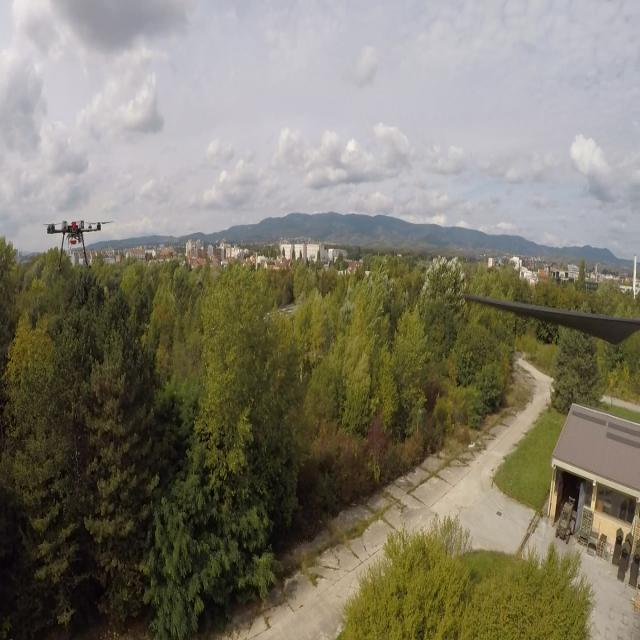UAV: (44, 210, 116, 278)
